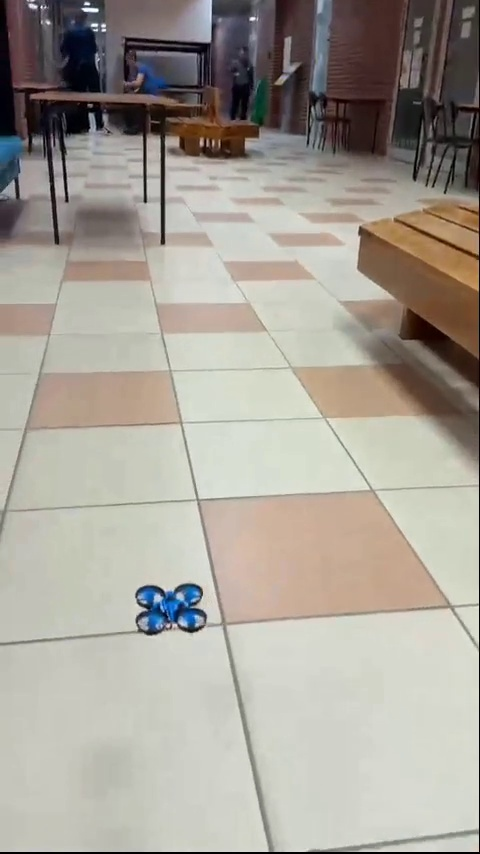drone: (134, 586, 203, 635)
no vest: (57, 6, 116, 138), (123, 43, 174, 102), (225, 40, 255, 114)
